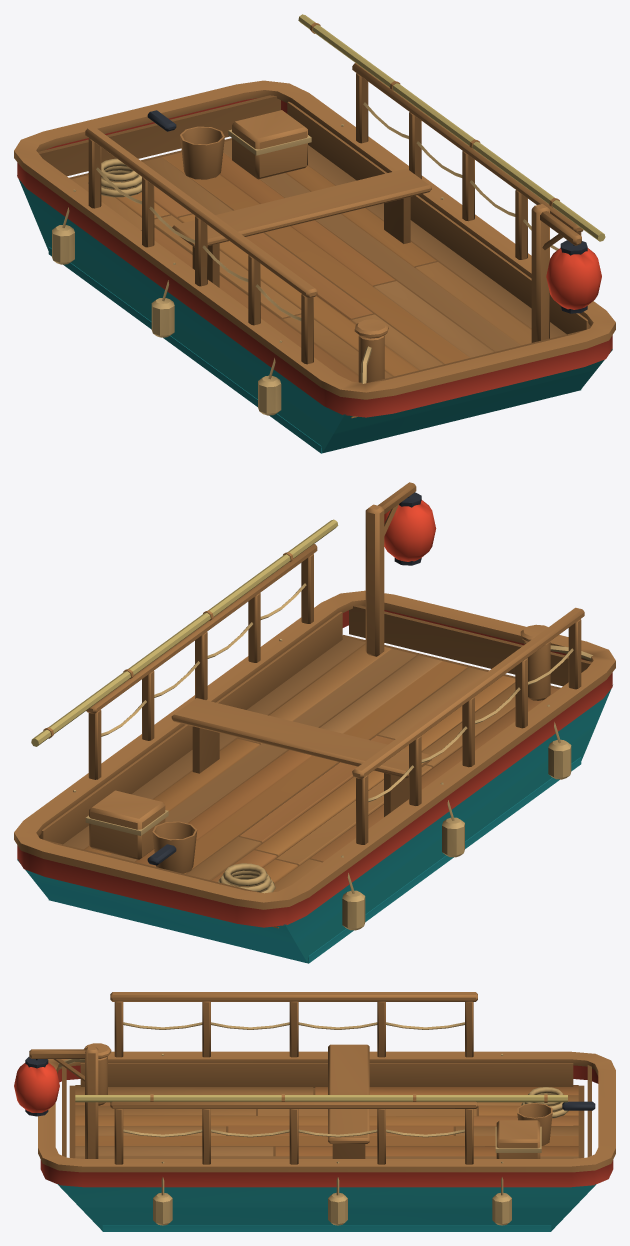
File: ferry.glb
The picture shows the model from 3 angles, top to bottom: view 1: azimuth 30°, elevation 25°; view 2: azimuth 150°, elevation 25°; view 3: azimuth 270°, elevation 25°; orthographic projection. The views are drawn at different scales.
Parts seen in each view (by area): view 1: ferry Ferry wood, ferry Ferry paint, ferry Ferry trim, ferry Rope, ferry Bamboo, ferry Lantern glow, ferry Iron; view 2: ferry Ferry wood, ferry Ferry paint, ferry Ferry trim, ferry Rope, ferry Bamboo, ferry Lantern glow, ferry Iron; view 3: ferry Ferry wood, ferry Ferry paint, ferry Ferry trim, ferry Rope, ferry Bamboo, ferry Lantern glow, ferry Iron.
Part boxes in pixels (box(x1,y1,x2,y2)): ferry Ferry wood: box(14, 22, 615, 418); ferry Ferry paint: box(17, 175, 612, 453); ferry Ferry trim: box(17, 98, 612, 417); ferry Rope: box(52, 102, 558, 415); ferry Bamboo: box(298, 14, 605, 241); ferry Lantern glow: box(546, 248, 601, 309); ferry Iron: box(147, 110, 587, 313); ferry Ferry wood: box(14, 482, 615, 928); ferry Ferry paint: box(17, 685, 612, 963); ferry Ferry trim: box(17, 610, 612, 927); ferry Rope: box(73, 583, 592, 930); ferry Bamboo: box(31, 519, 338, 746); ferry Lantern glow: box(384, 500, 436, 561); ferry Iron: box(147, 492, 421, 865); ferry Ferry wood: box(29, 992, 615, 1172); ferry Ferry paint: box(57, 1184, 596, 1231); ferry Ferry trim: box(40, 1065, 613, 1187); ferry Rope: box(58, 1022, 568, 1225); ferry Bamboo: box(75, 1095, 567, 1102); ferry Lantern glow: box(14, 1062, 59, 1112); ferry Iron: box(25, 1057, 595, 1116).
Size of the model in its own units: 2.7 by 1.66 by 5.5.
